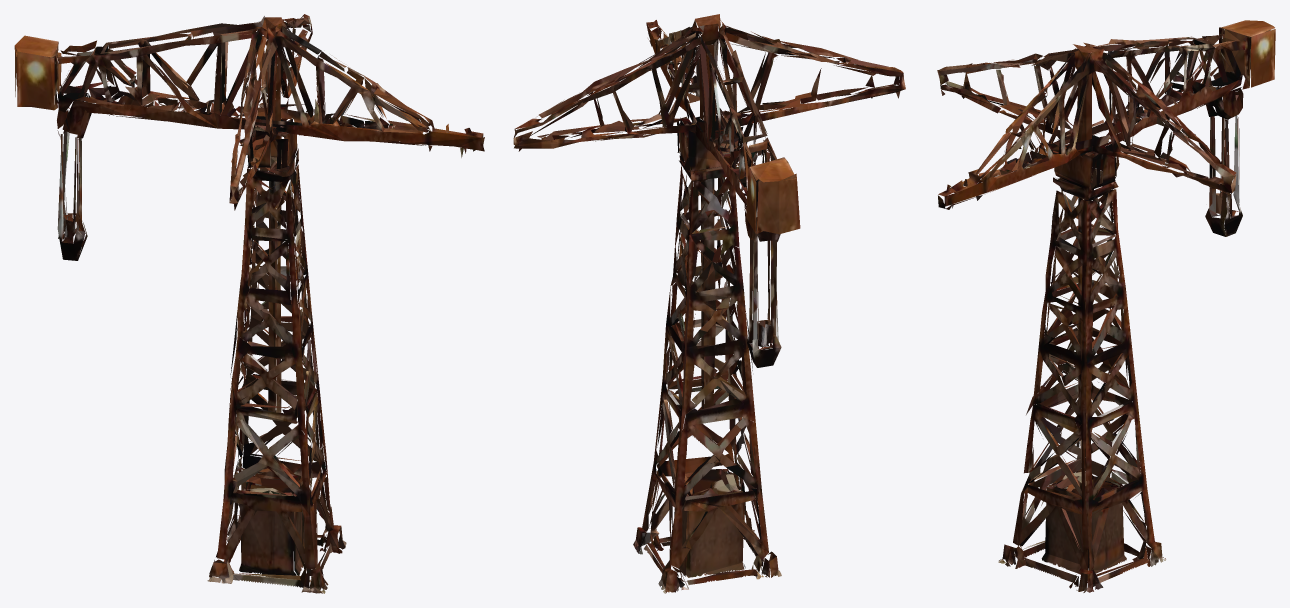
Rendered from rusted-crane-base.glb.
The picture shows the model from 3 angles, left to right: view 1: azimuth 30°, elevation 25°; view 2: azimuth 150°, elevation 25°; view 3: azimuth 270°, elevation 25°; orthographic projection. The views are drawn at different scales.
Parts seen in each view (by area): view 1: tmpwgunanal.ply; view 2: tmpwgunanal.ply; view 3: tmpwgunanal.ply.
Boxes of the visible parts, x1,y1,x2,y2 form: tmpwgunanal.ply: (14,14,484,593); tmpwgunanal.ply: (513,14,905,593); tmpwgunanal.ply: (937,20,1275,592).
Bounding box in the file's own units: 3 × 5 × 3.
1 material, 1 textured.
